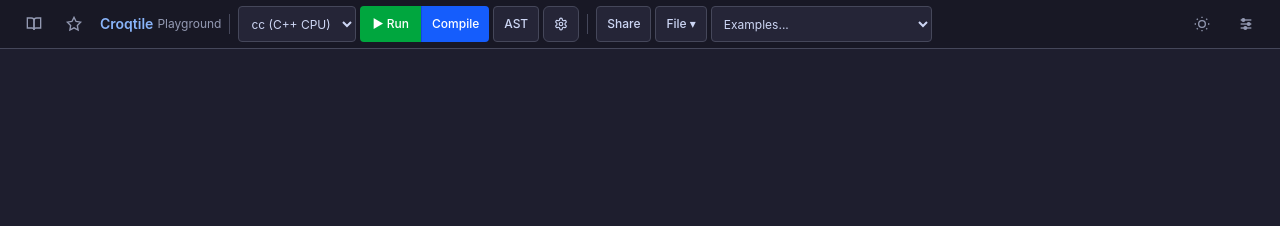
Test: Toolbar › shows file menu items when File dropdown opened
Click the button with aria-label "File menu".
click(681, 24)  # box [656,6,707,42]
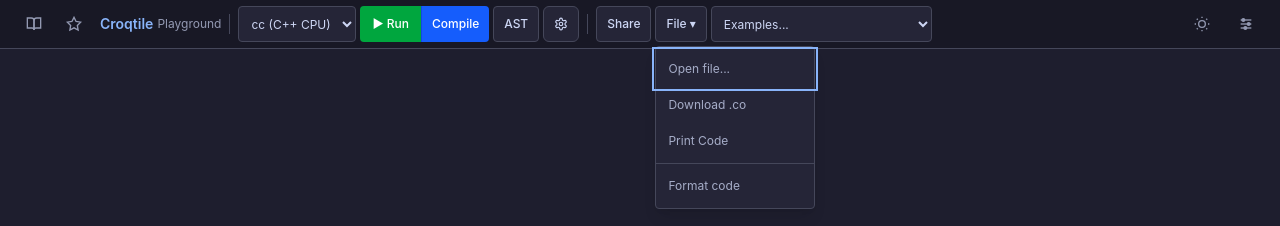
Expected: the menu item "Open file..." is shown, [656,51,814,87]
Expected: the menu item "Download .co" is shown, [656,87,814,123]
Expected: the menu item "Print Code" is shown, [656,123,814,159]
